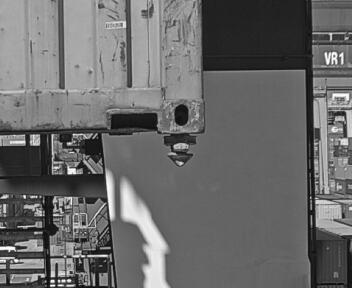twist_lock_2: (170, 125, 218, 176)
